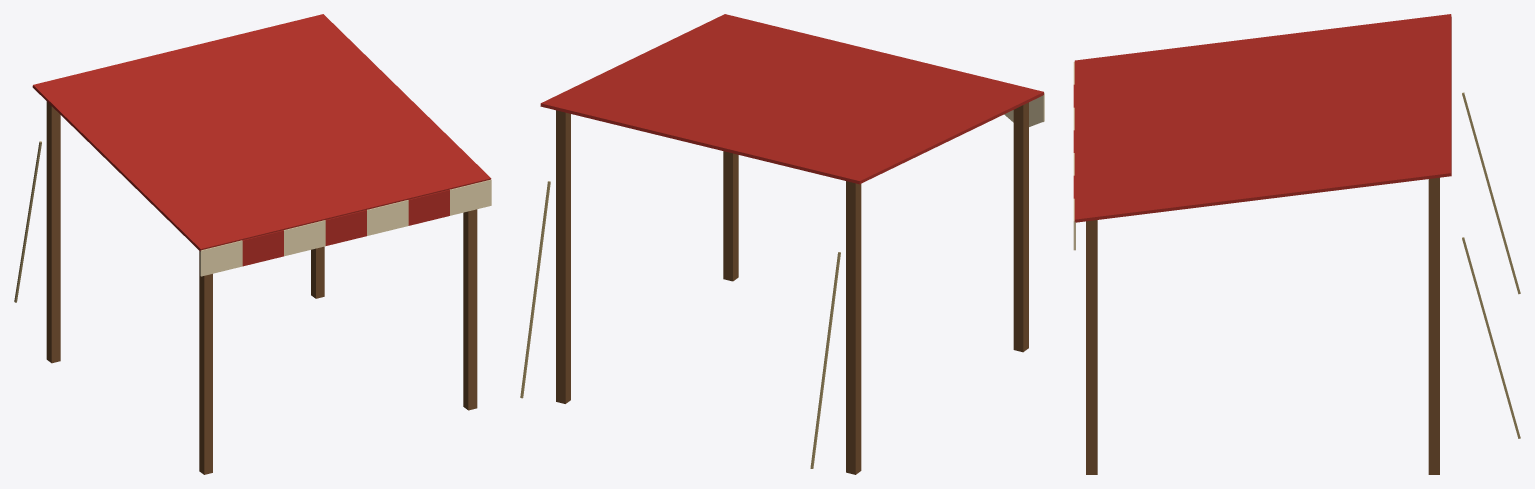
File: dc_canopy.glb
The picture shows the model from 3 angles, left to right: view 1: azimuth 30°, elevation 25°; view 2: azimuth 150°, elevation 25°; view 3: azimuth 270°, elevation 25°; orthographic projection. The views are drawn at different scales.
Visible parts, largest first — view 1: dc_canopy; view 2: dc_canopy; view 3: dc_canopy.
Boxes of the visible parts, <box> form: dc_canopy: <box>14,14,491,474</box>; dc_canopy: <box>520,14,1044,474</box>; dc_canopy: <box>1073,14,1520,474</box>.
Bounding box in the file's own units: 3.3 × 2.96 × 3.92.
